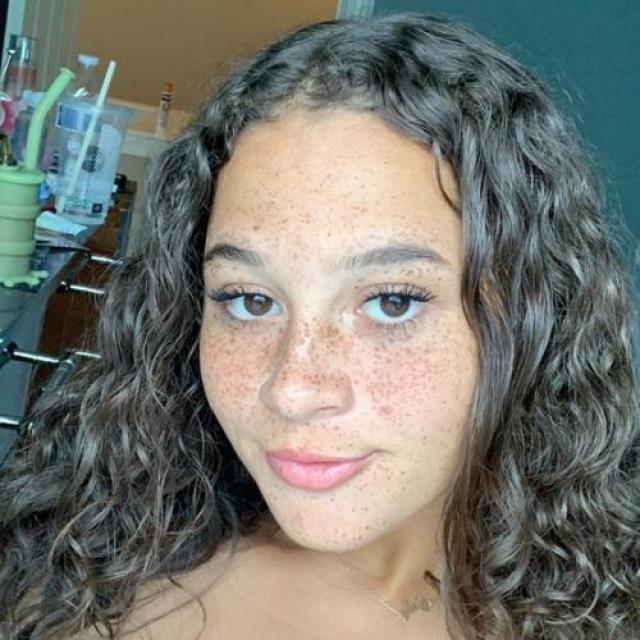freckle: (204, 319, 479, 460), (220, 155, 447, 251)
